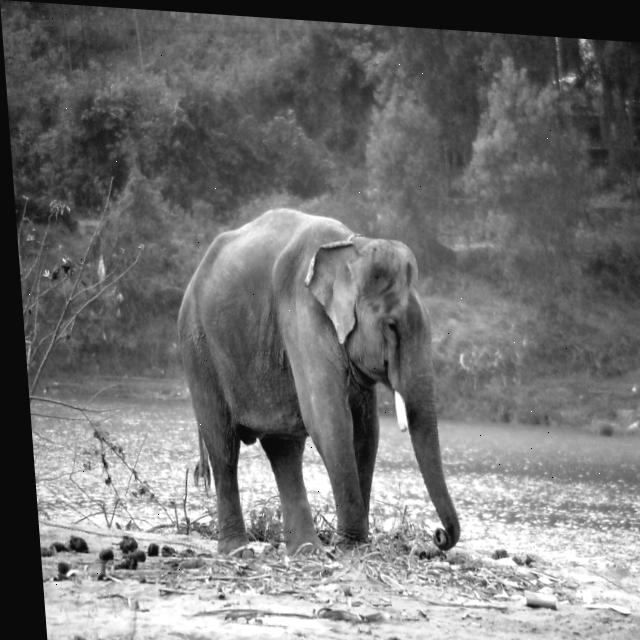Elephant: (167, 198, 464, 571)
